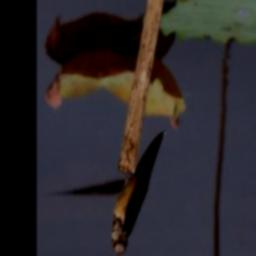Swallow: (111, 127, 165, 256)
